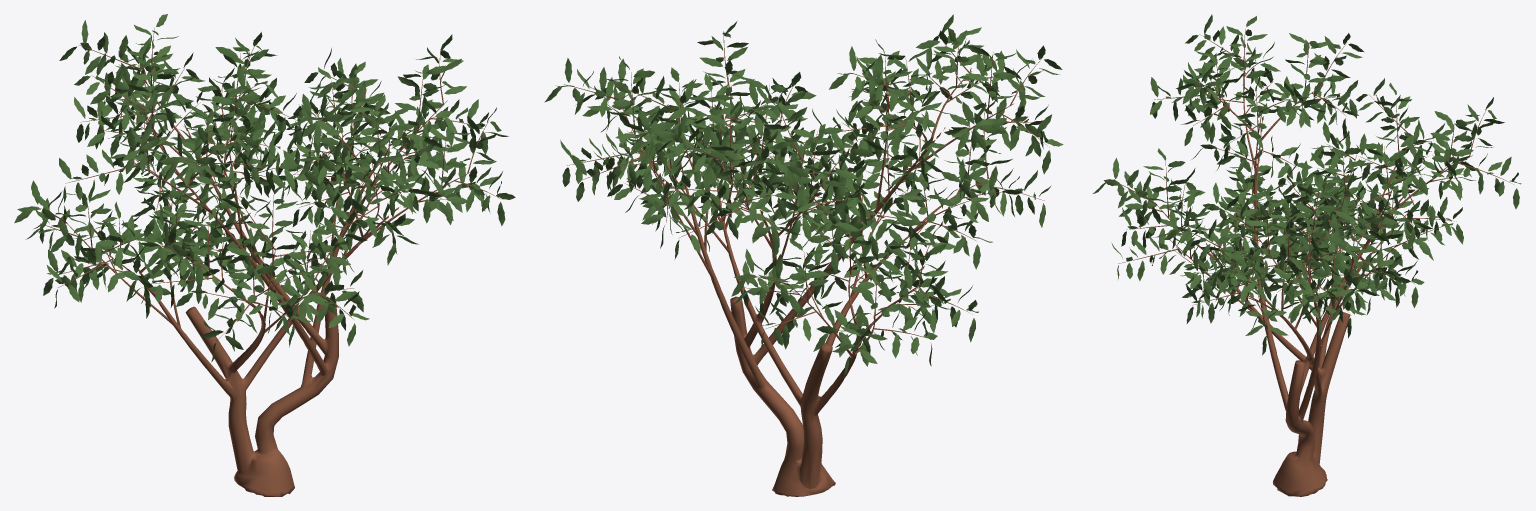
The model's file is Arbousier_0_Niveau0.fbx.
The picture shows the model from 3 angles, left to right: view 1: azimuth 30°, elevation 25°; view 2: azimuth 150°, elevation 25°; view 3: azimuth 270°, elevation 25°; orthographic projection. The views are drawn at different scales.
Parts seen in each view (by area): view 1: Arbousier_0_Niveau0; view 2: Arbousier_0_Niveau0; view 3: Arbousier_0_Niveau0.
Part boxes in pixels (x1,y1,x2,y2): Arbousier_0_Niveau0: (14, 14, 515, 496); Arbousier_0_Niveau0: (544, 14, 1063, 496); Arbousier_0_Niveau0: (1092, 14, 1521, 496).
Bounding box in the file's own units: 215 × 212 × 204.
